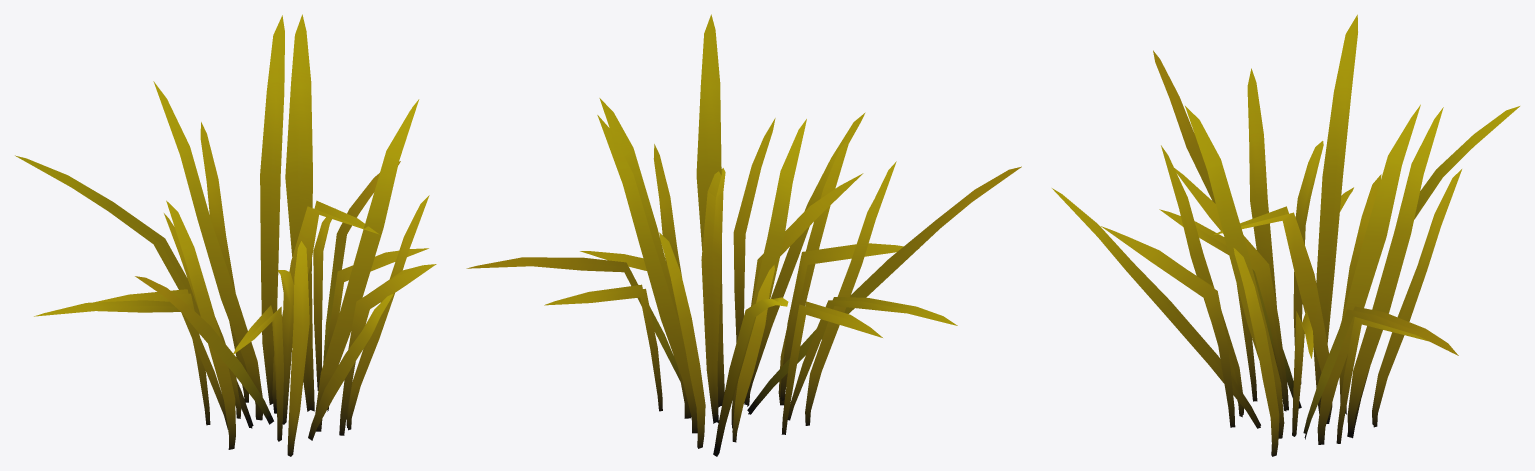
The model's file is Grass_Wispy_Short.gltf.
3 views of the same model, side by side, from view 1: azimuth 30°, elevation 25°; view 2: azimuth 150°, elevation 25°; view 3: azimuth 270°, elevation 25° (orthographic). The views are drawn at different scales.
Parts seen in each view (by area): view 1: Grass_Wispy_Short; view 2: Grass_Wispy_Short; view 3: Grass_Wispy_Short.
Part boxes in pixels (left/top/right/bottom): Grass_Wispy_Short: left=15, top=14, right=436, bottom=456; Grass_Wispy_Short: left=466, top=14, right=1021, bottom=456; Grass_Wispy_Short: left=1052, top=14, right=1519, bottom=456.
Size of the model in its own units: 1.32 by 1.07 by 1.21.
1 material, 1 textured.
